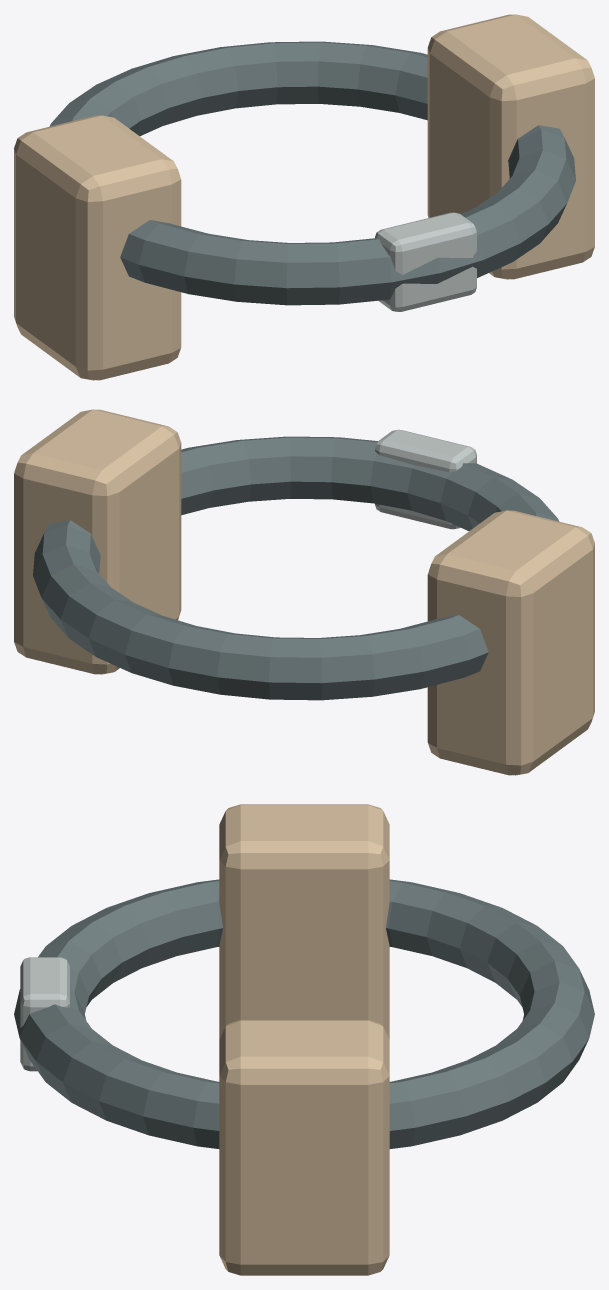
3 renders of one model, top to bottom at view 1: azimuth 30°, elevation 25°; view 2: azimuth 150°, elevation 25°; view 3: azimuth 270°, elevation 25°, orthographic. The views are drawn at different scales.
Parts seen in each view (by area): view 1: waist strap, belt pouch, belt pouch.001, buckle; view 2: waist strap, belt pouch, belt pouch.001, buckle; view 3: waist strap, belt pouch.001, belt pouch, buckle.
Boxes of the visible parts, x1=… form: waist strap: x1=49, y1=41, x2=575, y2=305; belt pouch: x1=14, y1=115, x2=181, y2=380; belt pouch.001: x1=427, y1=14, x2=594, y2=279; buckle: x1=375, y1=212, x2=476, y2=311; waist strap: x1=33, y1=436, x2=559, y2=700; belt pouch: x1=427, y1=510, x2=594, y2=775; belt pouch.001: x1=14, y1=409, x2=181, y2=674; buckle: x1=375, y1=429, x2=476, y2=529; waist strap: x1=14, y1=879, x2=594, y2=1148; belt pouch.001: x1=219, y1=1020, x2=389, y2=1275; belt pouch: x1=219, y1=804, x2=389, y2=1039; buckle: x1=20, y1=957, x2=69, y2=1071.
Bounding box in the file's own units: 0.45 × 0.17 × 0.41.
